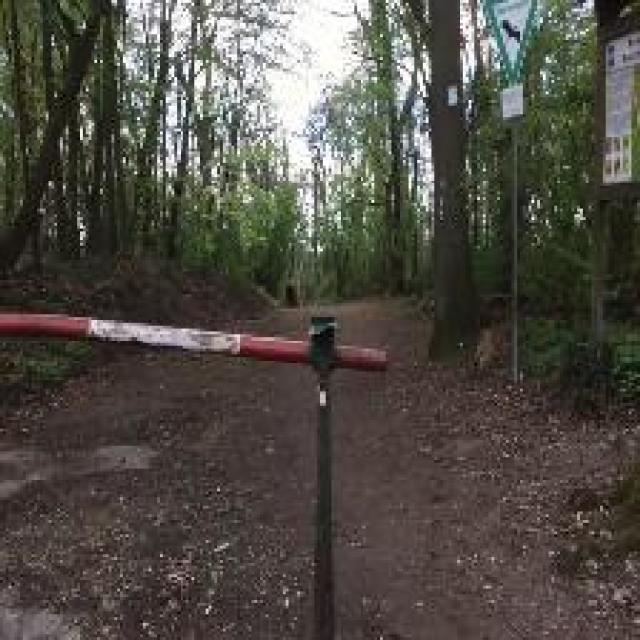other: (2, 272, 400, 394)
